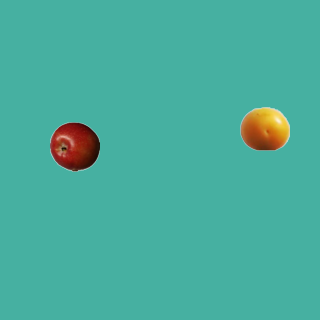Apple Braeburn: (49, 121, 99, 171)
Cherry Wax Yellow: (239, 103, 289, 153)
